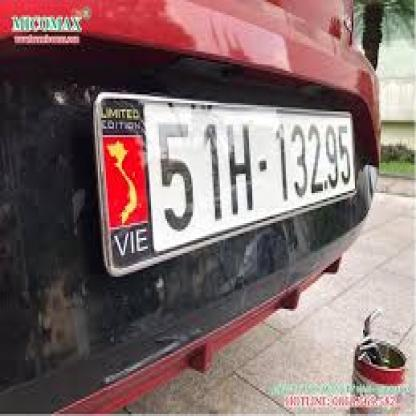biensoxe: (99, 83, 358, 276)
